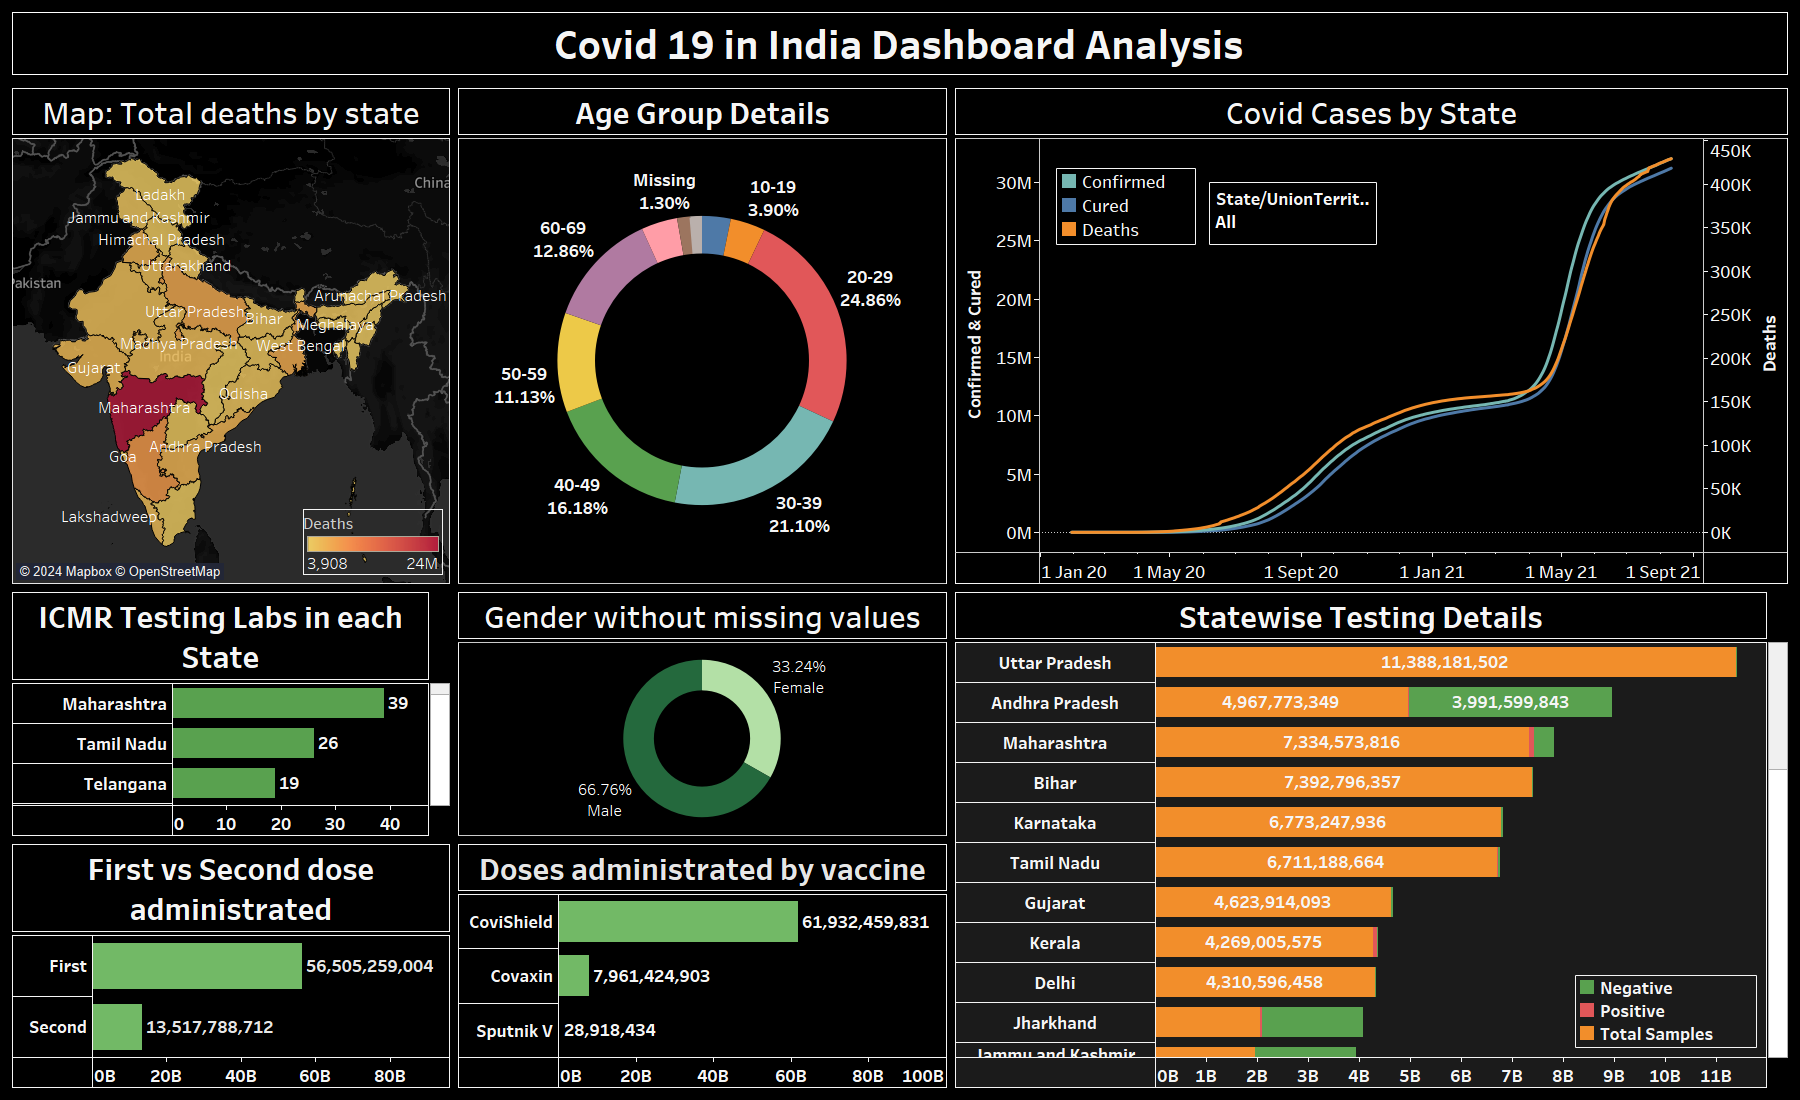

What the dashboard file says about the page in this screenshot:
{"tool":"tableau","page":{"name":"Dashboard 1","canvas":[1800,1100],"ordinal":0},"visuals":[{"type":"worksheet","title":"Title","mark":"Automatic","box":[8,8,1784,76]},{"type":"worksheet","title":"Map: Total deaths by state","mark":"Automatic","box":[8,84,446,504]},{"type":"worksheet","title":"Age Group Details","mark":"Pie","rows":["Calculation_2098677467099324422","Calculation_2098677467099873290"],"box":[454,84,497,504]},{"type":"worksheet","title":"Covid Cases by State","mark":"Automatic","rows":["Deaths"],"cols":["Date"],"box":[951,84,841,504]},{"type":"legend","title":"Covid Cases by State","param":"[federated.0draz240uivwuo17vaemx081f7jk].[:Measure Names]","box":[1056,168,140,77]},{"type":"filter","title":"Covid Cases by State","param":"[federated.0draz240uivwuo17vaemx081f7jk].[none:State/UnionTerritory:nk]","box":[1209,182,168,63]},{"type":"legend","title":"Map: Total deaths by state","param":"[federated.0draz240uivwuo17vaemx081f7jk].[sum:Deaths:qk]","box":[303,509,140,67]},{"type":"worksheet","title":"ICMR Testing Labs in each state","mark":"Automatic","rows":["state"],"cols":["lab"],"box":[8,588,446,252]},{"type":"worksheet","title":"Gender without missing values","mark":"Pie","rows":["Calculation_2098677467104198668","Calculation_2098677467104210958"],"box":[454,588,497,252]},{"type":"worksheet","title":"Statewise Testing Details","mark":"Automatic","rows":["State"],"box":[951,588,841,504]},{"type":"worksheet","title":"First vs Second dose administrated","mark":"Automatic","box":[8,840,446,252]},{"type":"worksheet","title":"Doses administrated by vaccine","mark":"Automatic","box":[454,840,497,252]},{"type":"legend","title":"Statewise Testing Details","param":"[federated.130yfy01pubpng13b4ocz032bv9z].[:Measure Names]","box":[1575,975,182,73]}]}

Visuals, with their boxes in screenshot pixels (x1, y1, x2, y2), scaled from the page's 1800x1100 canvas onto the 1800x1100 screenshot:
"Title" worksheet: 8,8,1792,84
"Map: Total deaths by state" worksheet: 8,84,454,588
"Age Group Details" worksheet (Pie marks): 454,84,951,588
"Covid Cases by State" worksheet: 951,84,1792,588
"Covid Cases by State" legend: 1056,168,1196,245
"Covid Cases by State" filter: 1209,182,1377,245
"Map: Total deaths by state" legend: 303,509,443,576
"ICMR Testing Labs in each state" worksheet: 8,588,454,840
"Gender without missing values" worksheet (Pie marks): 454,588,951,840
"Statewise Testing Details" worksheet: 951,588,1792,1092
"First vs Second dose administrated" worksheet: 8,840,454,1092
"Doses administrated by vaccine" worksheet: 454,840,951,1092
"Statewise Testing Details" legend: 1575,975,1757,1048
